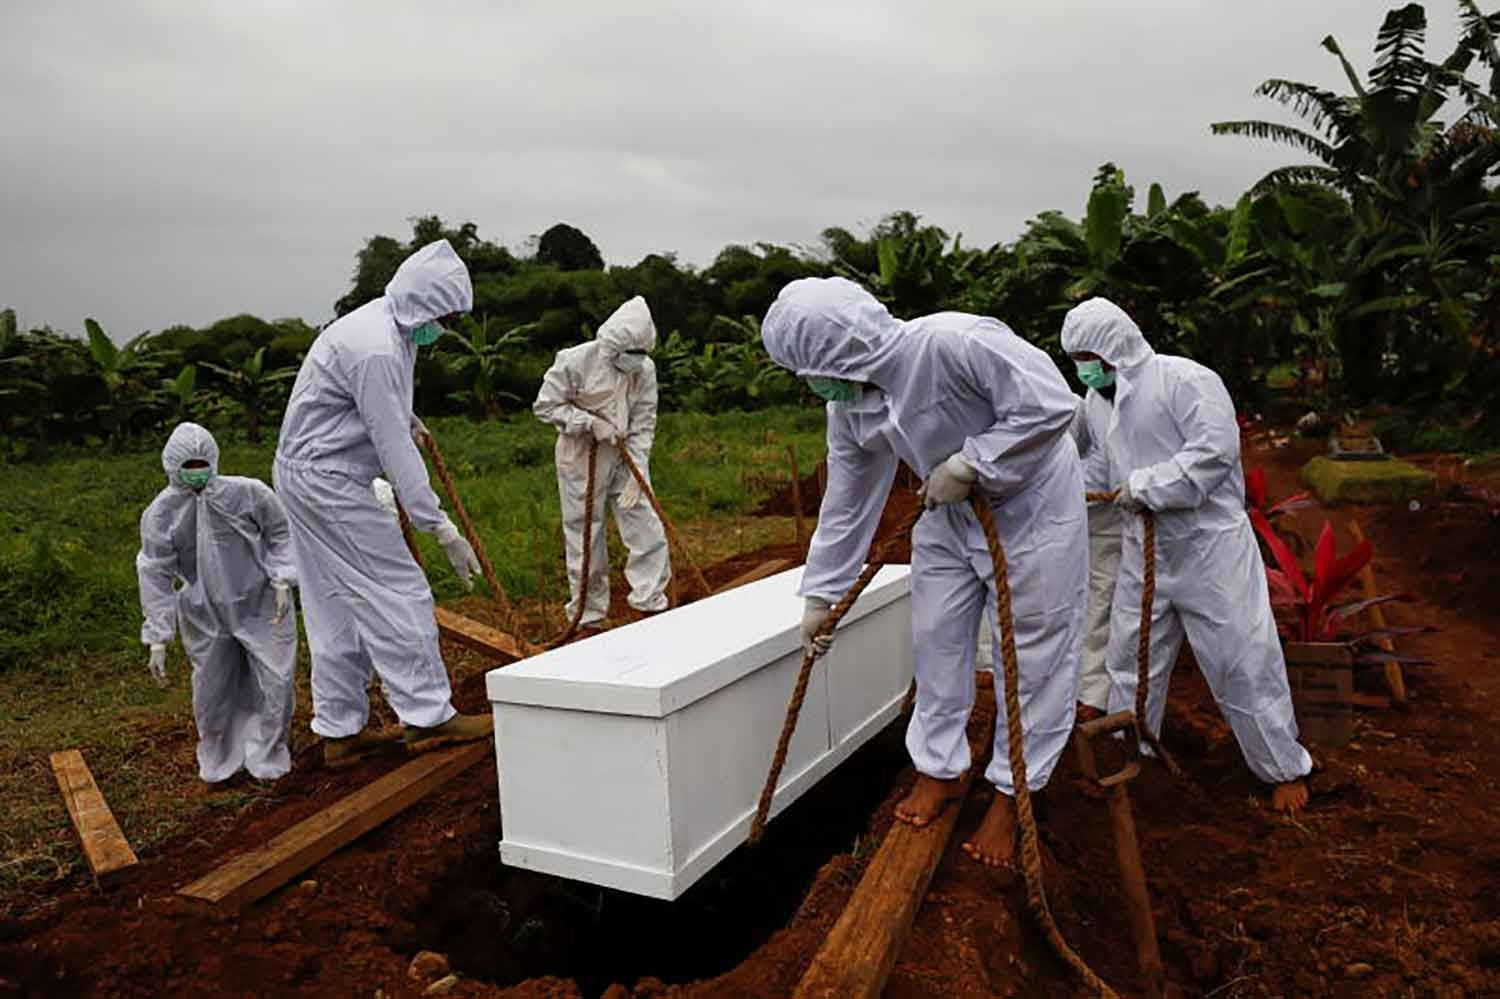Coverall: (759, 268, 1092, 797), (1063, 287, 1321, 779), (269, 236, 477, 742), (130, 404, 309, 781), (530, 291, 682, 626)
Gloves: (438, 529, 500, 600), (911, 457, 980, 518), (792, 592, 838, 663), (135, 641, 179, 692), (1104, 474, 1143, 518), (264, 583, 296, 629), (592, 413, 627, 445)
with_mask: (806, 370, 869, 413), (1079, 350, 1124, 395), (406, 304, 451, 347), (179, 455, 209, 492), (614, 345, 645, 379)
